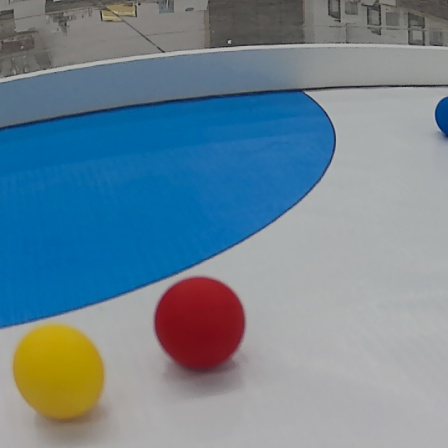blue_base: (2, 85, 337, 326)
red: (153, 275, 246, 377)
yellow: (13, 322, 107, 421)
